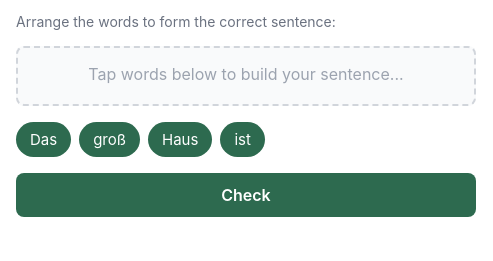
SentenceBuilder › can reset after an incorrect retryable sentence
The width and height of the screenshot is (493, 261).
Click the button "Haus": (180, 140) top-left (148, 122), bottom-right (212, 157)
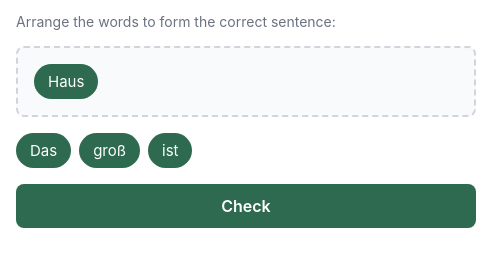
Click the button "Das": (44, 150) top-left (16, 133), bottom-right (71, 168)
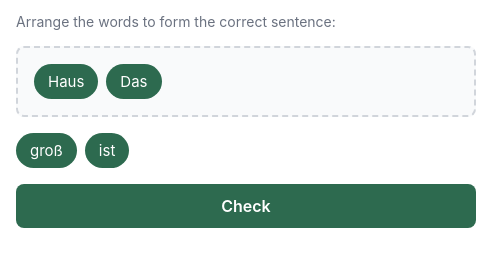
Click the button "Check": (246, 206) top-left (16, 184), bottom-right (476, 228)
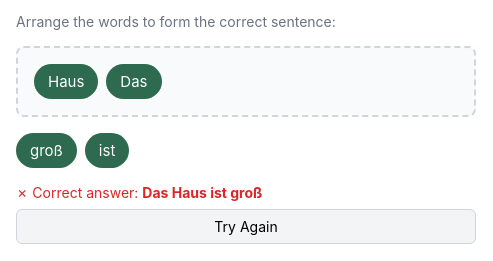
Click the button "Try Again": (246, 226) top-left (16, 209), bottom-right (476, 244)
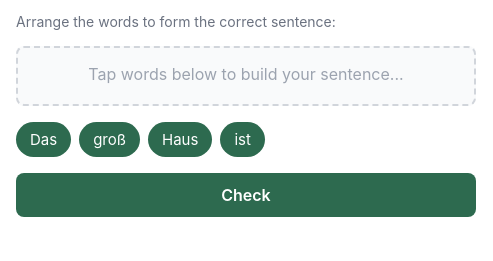
Check: the text "Tap words below to build your sentence..." is shown, box top-left (88, 64), bottom-right (404, 84)
